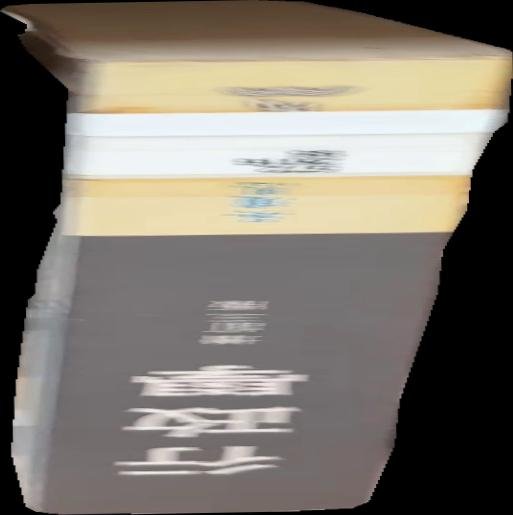reverse: (1, 1, 513, 515)
